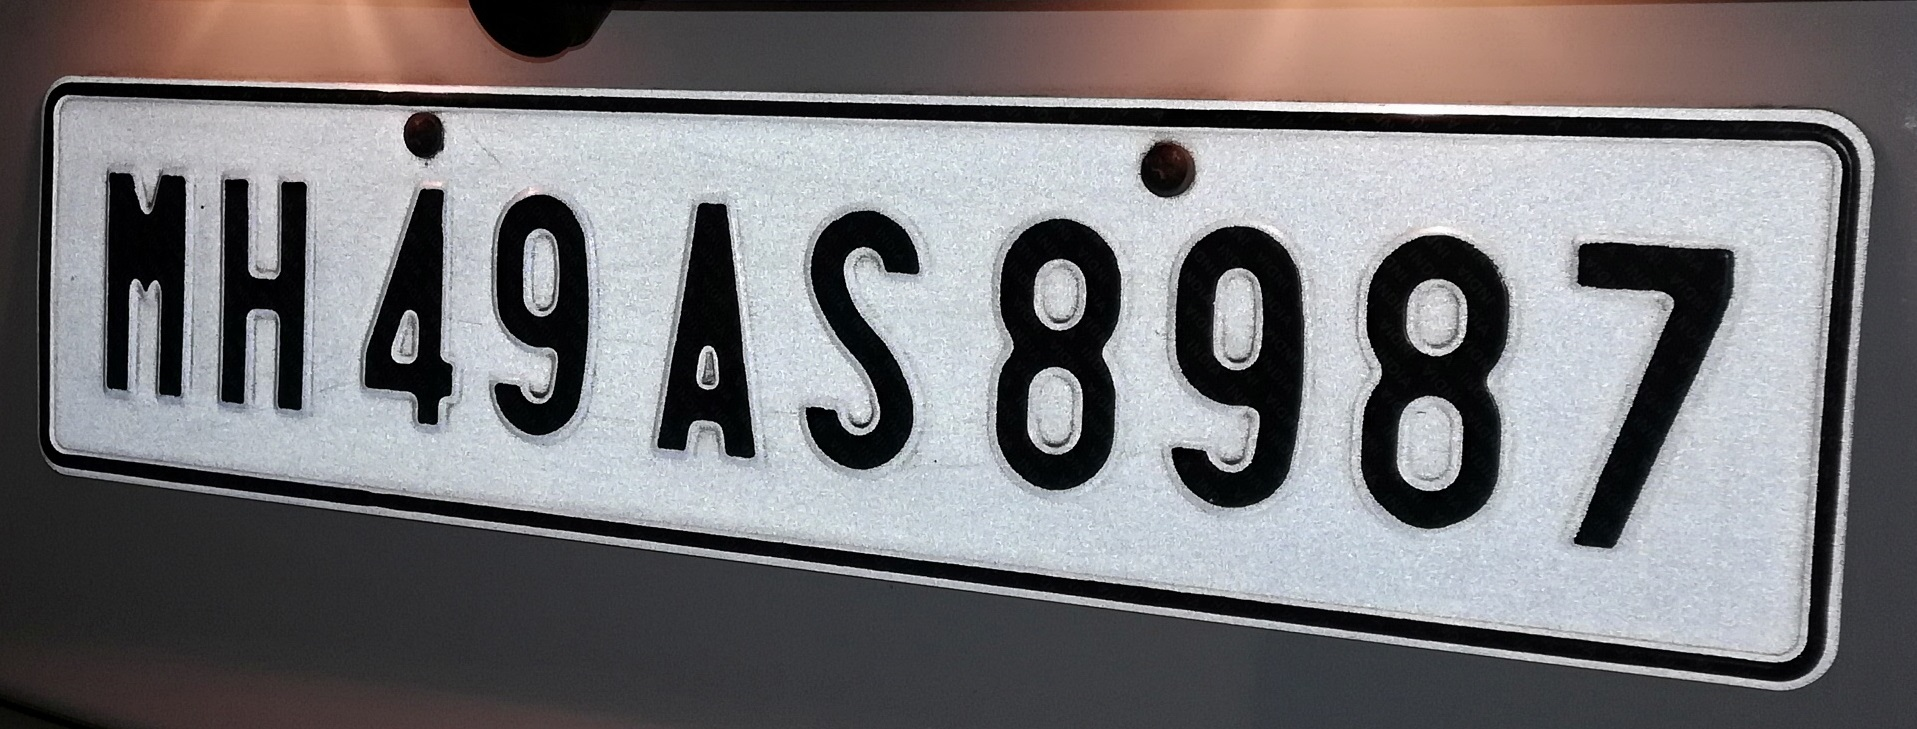numberplate: (36, 61, 1876, 699)
